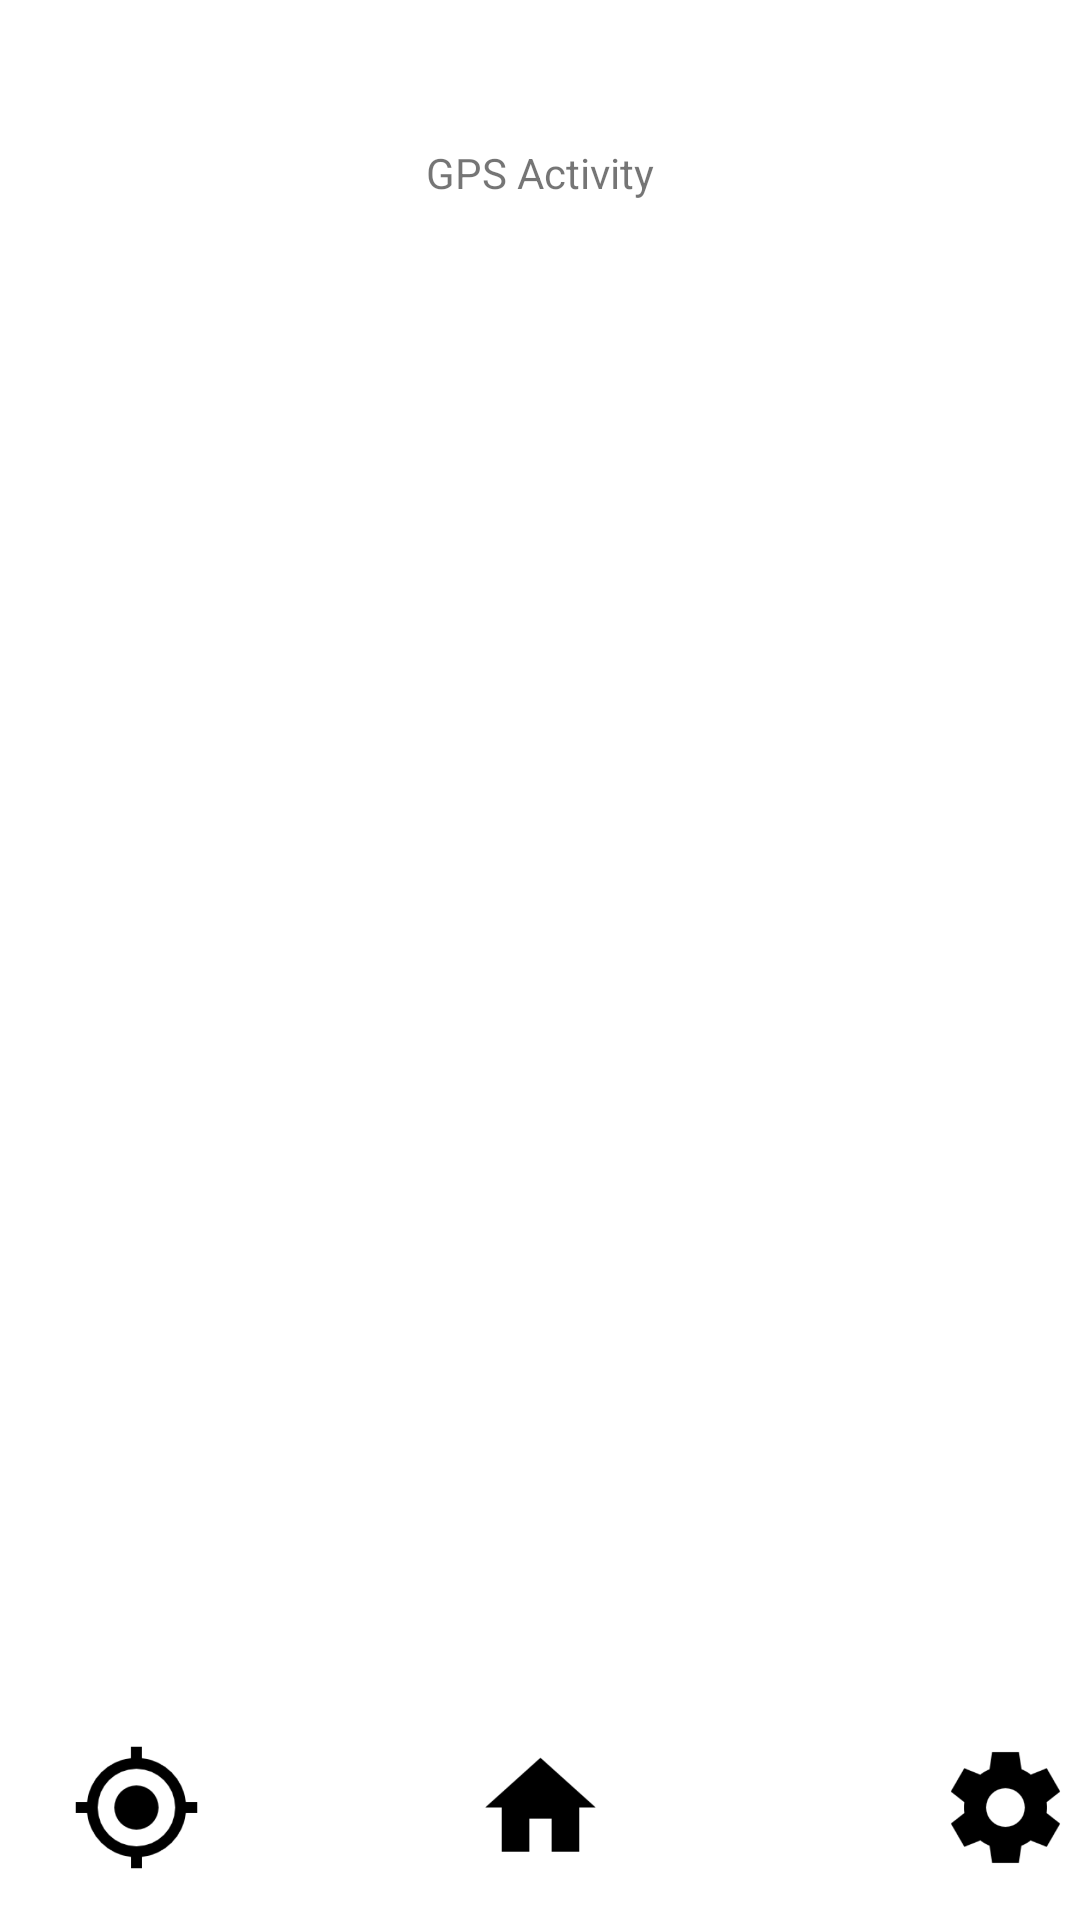

Icons on this 1080 x 1920 Android screen, each with the point to tap as [x,y]:
home: [540,1804]
